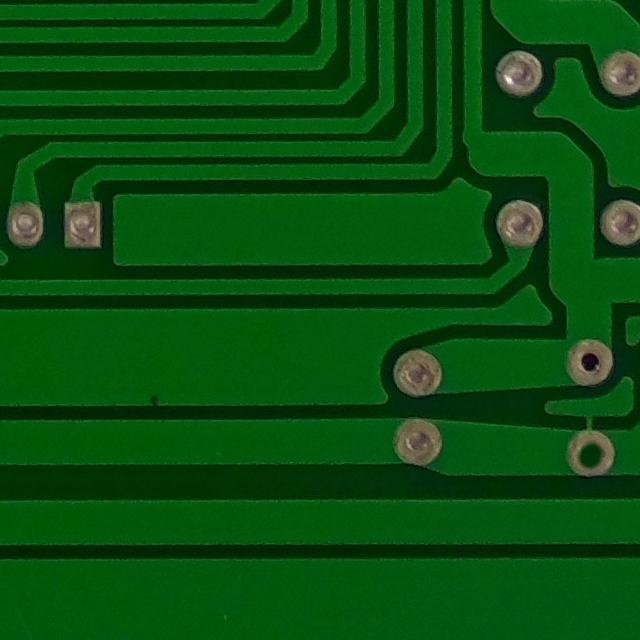missing_hole: (564, 426, 620, 483)
